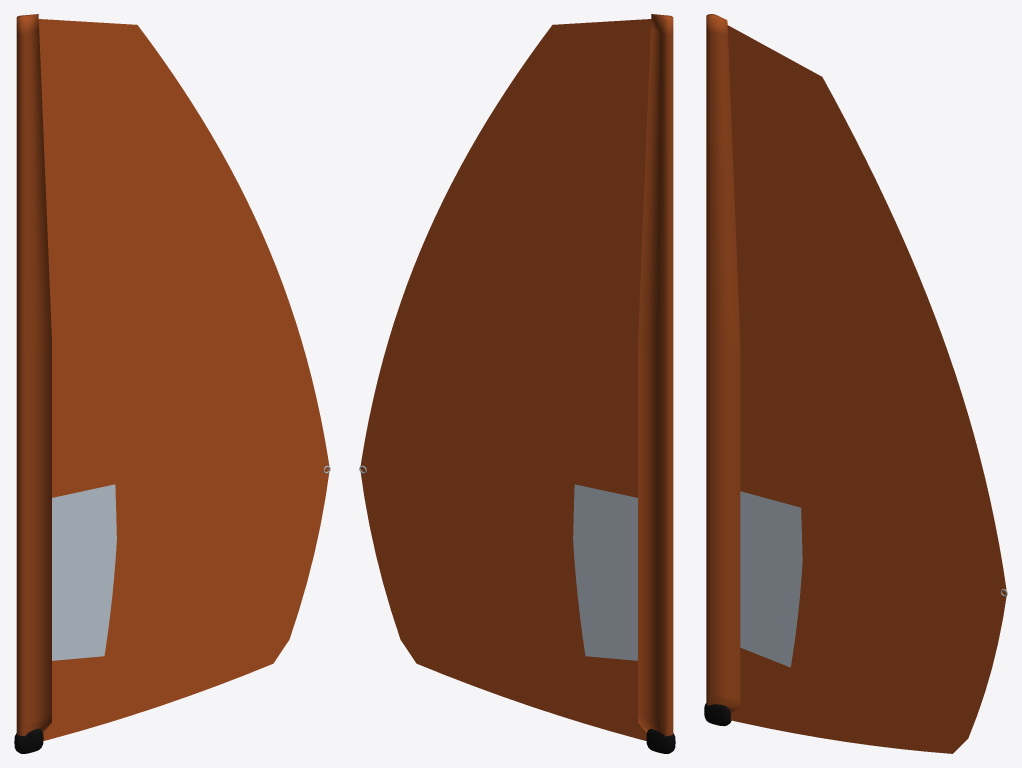
Rendered from savanna_slalom_7_5.glb.
3 renders of one model, left to right at view 1: azimuth 30°, elevation 25°; view 2: azimuth 150°, elevation 25°; view 3: azimuth 330°, elevation 25°, orthographic. The views are drawn at different scales.
Parts seen in each view (by area): view 1: SailCloth, TackFairing; view 2: SailCloth, TackFairing; view 3: SailCloth, TackFairing.
Part boxes in pixels (x1,y1,x2,y2): SailCloth: (16, 14, 329, 740); TackFairing: (14, 728, 43, 753); SailCloth: (360, 14, 673, 740); TackFairing: (646, 729, 675, 753); SailCloth: (706, 14, 1006, 753); TackFairing: (704, 703, 731, 726).
Size of the model in its own units: 2.13 by 4.77 by 0.08.
